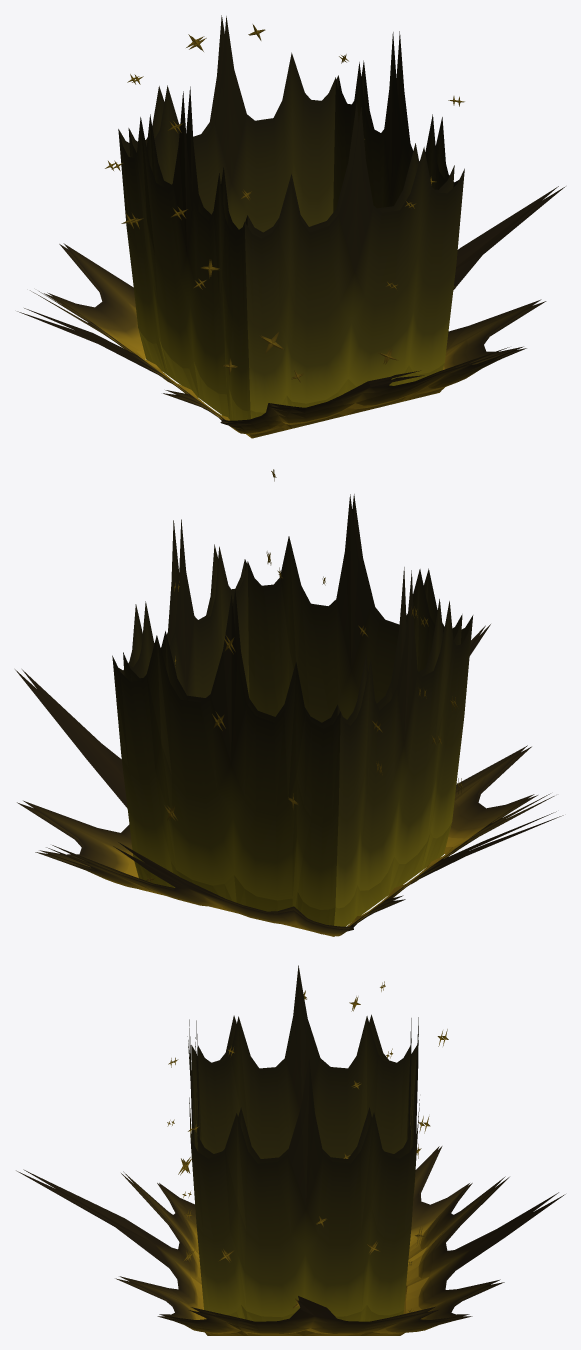
The model's file is buildingHighlight.glb.
3 renders of one model, top to bottom at view 1: azimuth 30°, elevation 25°; view 2: azimuth 150°, elevation 25°; view 3: azimuth 270°, elevation 25°, orthographic. The views are drawn at different scales.
Parts seen in each view (by area): view 1: lightCone.004, lightCone.001, lightCone.003, lightCone, stars3; view 2: lightCone.004, lightCone.001, lightCone.003, lightCone; view 3: lightCone.004, lightCone.001, lightCone.003, lightCone.
Boxes of the visible parts, bbox=[...] form: lightCone.004: bbox=[118, 15, 464, 420]; lightCone.001: bbox=[128, 16, 454, 238]; lightCone.003: bbox=[24, 186, 558, 438]; lightCone: bbox=[17, 186, 565, 437]; stars3: bbox=[127, 24, 464, 208]; lightCone.004: bbox=[112, 494, 473, 926]; lightCone.001: bbox=[123, 494, 462, 728]; lightCone.003: bbox=[22, 625, 556, 936]; lightCone: bbox=[15, 624, 563, 936]; lightCone.004: bbox=[187, 965, 419, 1321]; lightCone.001: bbox=[195, 966, 412, 1163]; lightCone.003: bbox=[23, 1146, 558, 1335]; lightCone: bbox=[16, 1146, 565, 1335].
Bounding box in the file's own units: 2.89 × 1.69 × 2.86.
